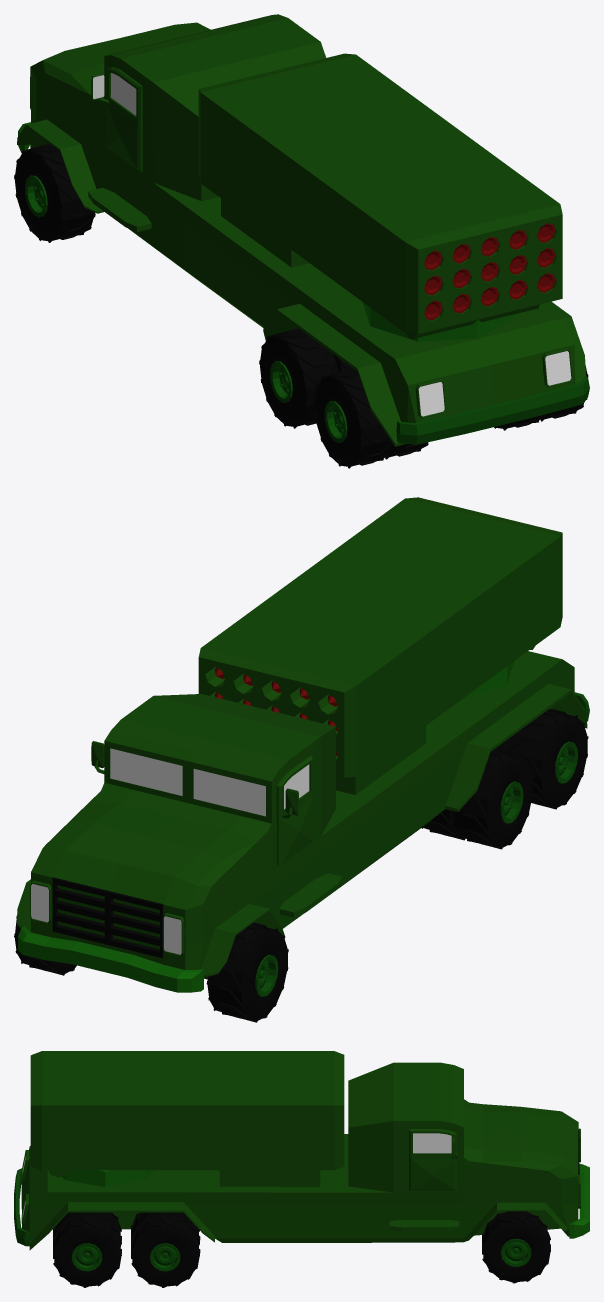
The model's file is MLRS.fbx.
3 views of the same model, one above another, from view 1: azimuth 30°, elevation 25°; view 2: azimuth 150°, elevation 25°; view 3: azimuth 270°, elevation 25° (orthographic). The views are drawn at different scales.
Visible parts, largest first — view 1: Tubes, Body.003, Body, Body.006, Body.007, Wheel_Midle_Out_L, Wheel_FWD_L, Wheel_Back_Out_L, Body.002, Bumper_Back, Body.005, Door_L (+7 smaller); view 2: Tubes, Body.007, Body.003, Body, Wheel_FWD_L, Wheel_Midle_Out_L, Wheel_Back_Out_L, Cube.005, Bumper_FWD, Windows_FWD, Body.002, Body.005 (+6 smaller); view 3: Tubes, Body, Body.007, Body.003, Wheel_Midle_Out_R, Wheel_Back_Out_R, Wheel_FWD_R, Body.005, Body.006, Door_R, Body.002, Platform (+8 smaller).
Boxes of the visible parts, box(x1,y1,x2,y2) form: Tubes: box(198, 53, 562, 333); Body.003: box(104, 14, 326, 200); Body: box(104, 147, 333, 331); Body.006: box(380, 308, 574, 423); Body.007: box(30, 22, 210, 188); Wheel_Midle_Out_L: box(259, 328, 338, 428); Wheel_FWD_L: box(14, 143, 95, 242); Wheel_Back_Out_L: box(313, 368, 392, 468); Body.002: box(263, 301, 587, 446); Bumper_Back: box(396, 376, 589, 444); Body.005: box(300, 281, 547, 362); Door_L: box(107, 67, 142, 171); Tubes: box(198, 497, 562, 777); Body.007: box(31, 783, 272, 969); Body.003: box(104, 694, 335, 871); Body: box(272, 721, 467, 928); Wheel_FWD_L: box(206, 922, 288, 1022); Wheel_Midle_Out_L: box(452, 749, 533, 849); Wheel_Back_Out_L: box(508, 709, 588, 809); Cube.005: box(52, 877, 163, 958); Bumper_FWD: box(18, 926, 203, 992); Windows_FWD: box(110, 748, 265, 816); Body.002: box(445, 684, 587, 811); Body.005: box(433, 662, 548, 742); Tubes: box(30, 1051, 344, 1170); Body: box(184, 1134, 464, 1242); Body.007: box(463, 1099, 578, 1241); Body.003: box(348, 1062, 463, 1192); Wheel_Midle_Out_R: box(131, 1213, 200, 1287); Wheel_Back_Out_R: box(53, 1213, 121, 1287); Wheel_FWD_R: box(482, 1211, 550, 1283); Body.005: box(68, 1170, 183, 1202); Body.006: box(21, 1146, 67, 1243); Door_R: box(409, 1129, 456, 1190); Body.002: box(29, 1202, 214, 1250); Platform: box(219, 1170, 320, 1186).
Bounding box in the file's own units: 4.18 × 12.54 × 4.09.
